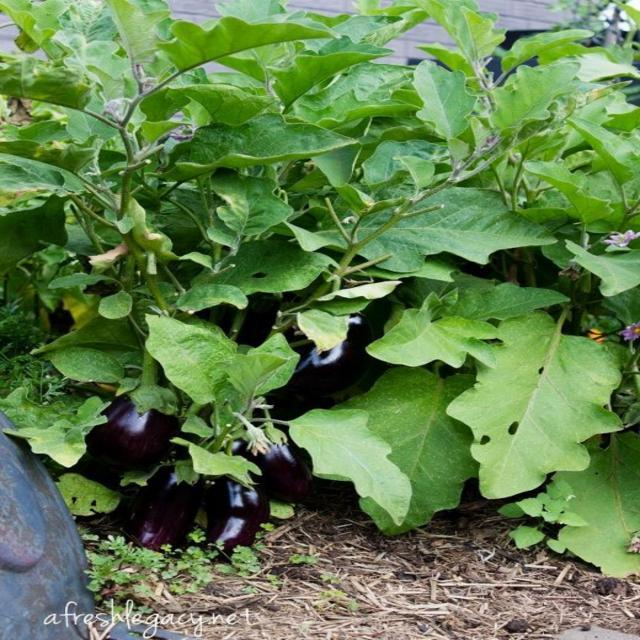plant: (0, 0, 640, 576)
